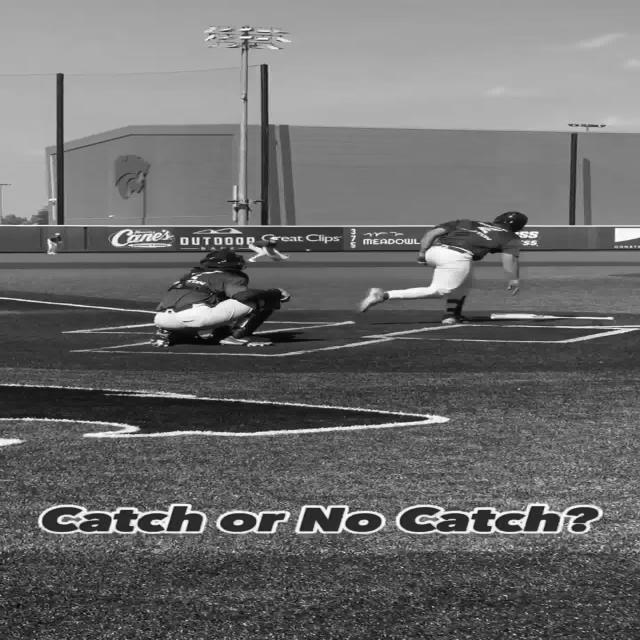bat: (489, 312, 613, 320)
shoe: (220, 336, 273, 346), (151, 329, 171, 348)
